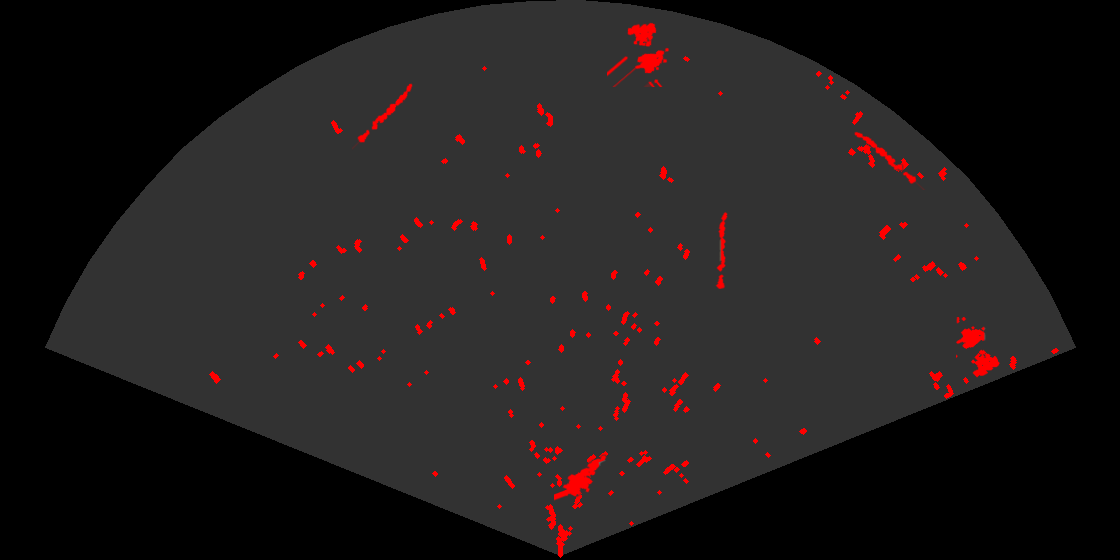cage: (607, 21, 671, 87), (956, 317, 1001, 379)
chain: (853, 130, 927, 190), (352, 82, 414, 151), (714, 210, 729, 289)
frogman: (554, 454, 608, 502)
